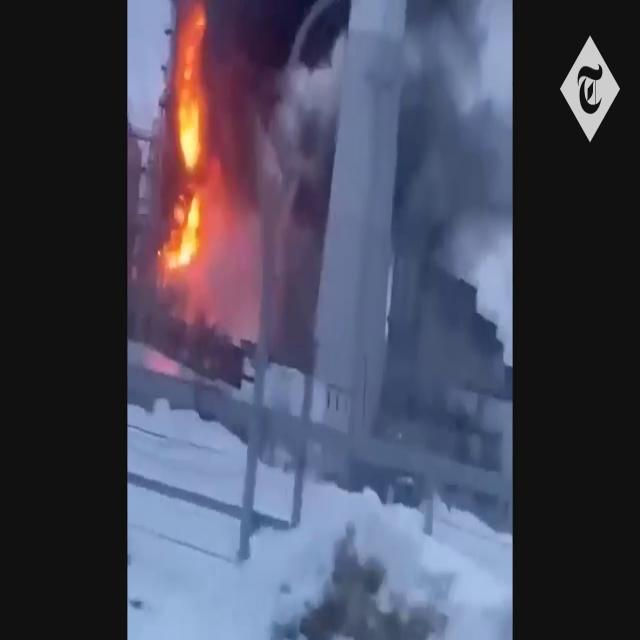Fire: (156, 13, 224, 283)
Smoke: (213, 0, 509, 320)
